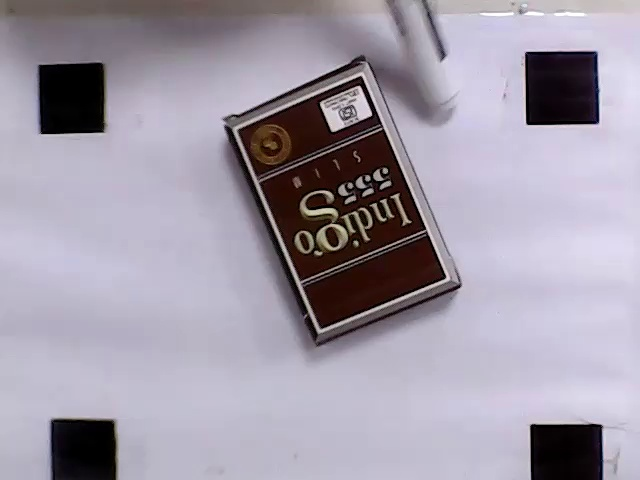BEX: (234, 73, 449, 331)
